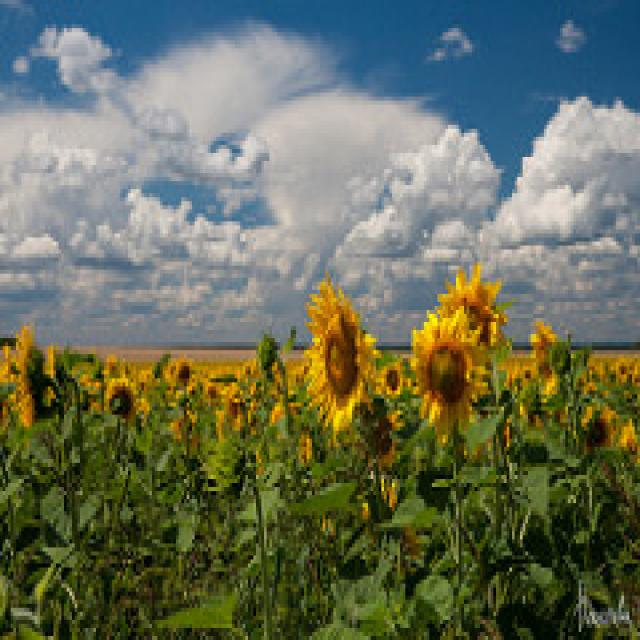sunflower: (297, 259, 383, 436), (404, 306, 495, 451), (432, 252, 507, 348), (13, 318, 48, 435), (526, 312, 566, 396), (357, 403, 400, 479), (96, 364, 144, 429), (572, 392, 620, 457), (165, 396, 208, 465), (220, 372, 255, 437), (165, 352, 200, 401), (373, 360, 411, 405), (615, 354, 633, 386)
